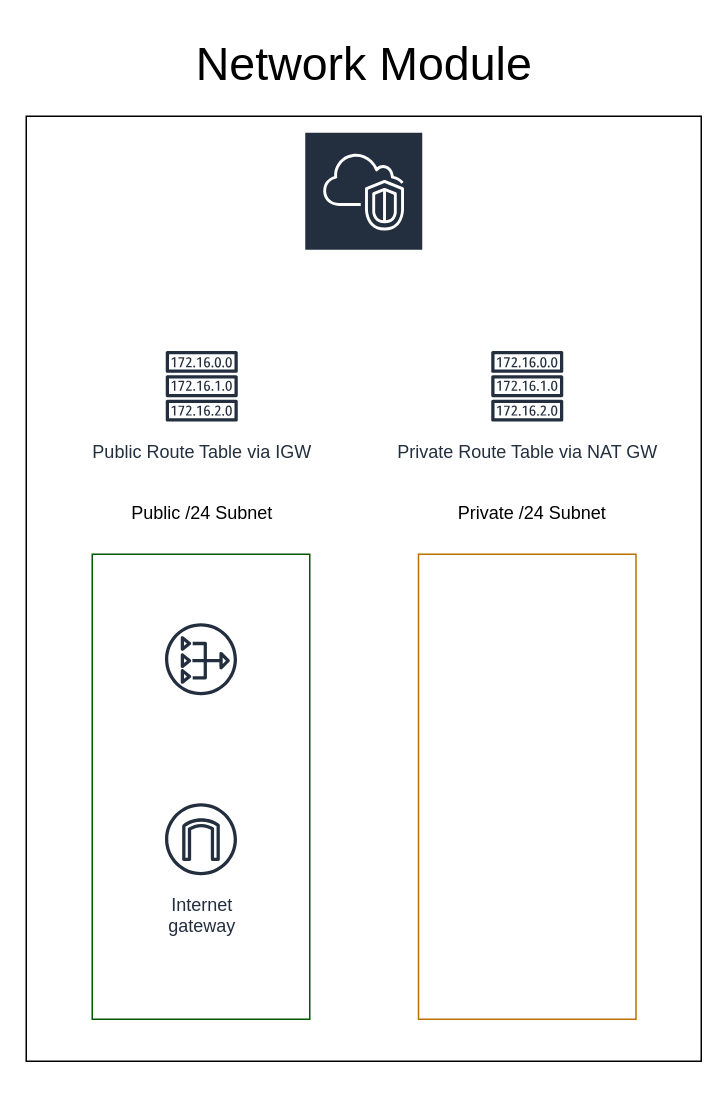
Some shapes in this 728 by 1100 pixel diagram are drawn without their labels. The centre of each missing label's shape, as x and y in pixels:
Amazon VPC: point (363, 205)
NAT gateway: point (200, 658)
